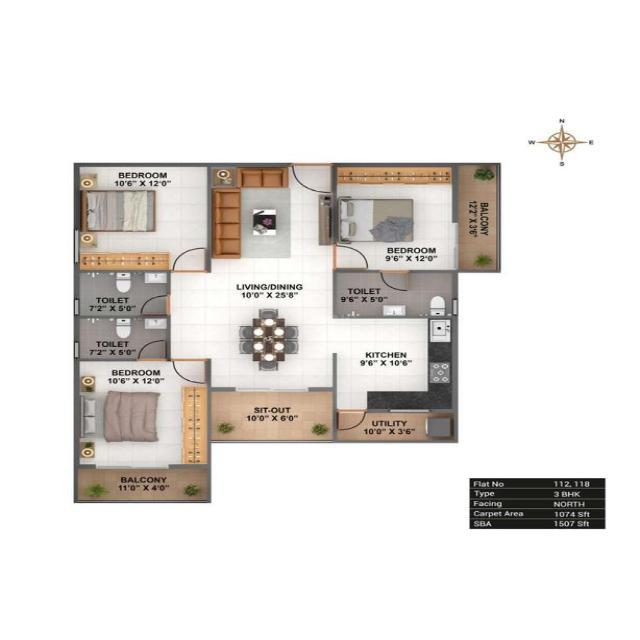Balcony-Sitout: (212, 392, 332, 439), (76, 468, 205, 501), (461, 164, 497, 271)
Bedroom: (80, 168, 208, 269), (79, 362, 205, 464), (338, 168, 451, 269)
Enterance-Foyer: (288, 160, 334, 198)
Kitchen: (334, 318, 456, 411)
Living: (209, 164, 337, 269)
Toilet: (334, 272, 454, 317), (76, 271, 168, 315), (78, 318, 168, 360)
Utility: (338, 414, 456, 440)
